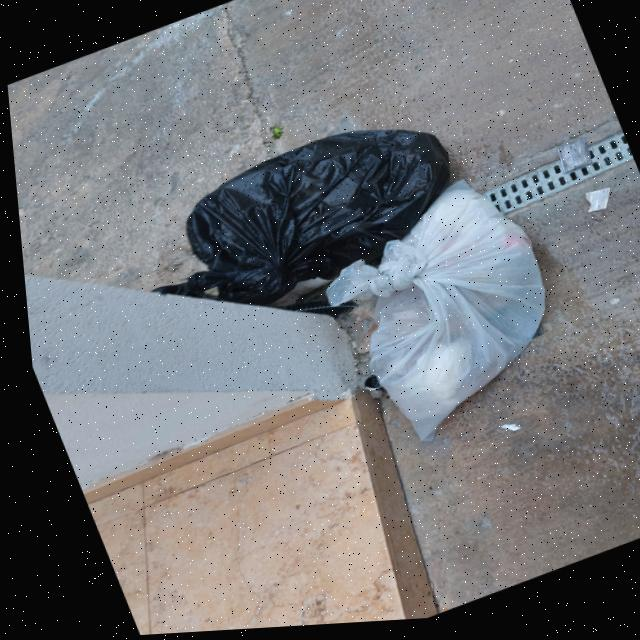Mixed Waste -Black Bag-: (112, 101, 479, 345)
Recycled Waste -Grey or Green Bag-: (292, 167, 585, 466)
